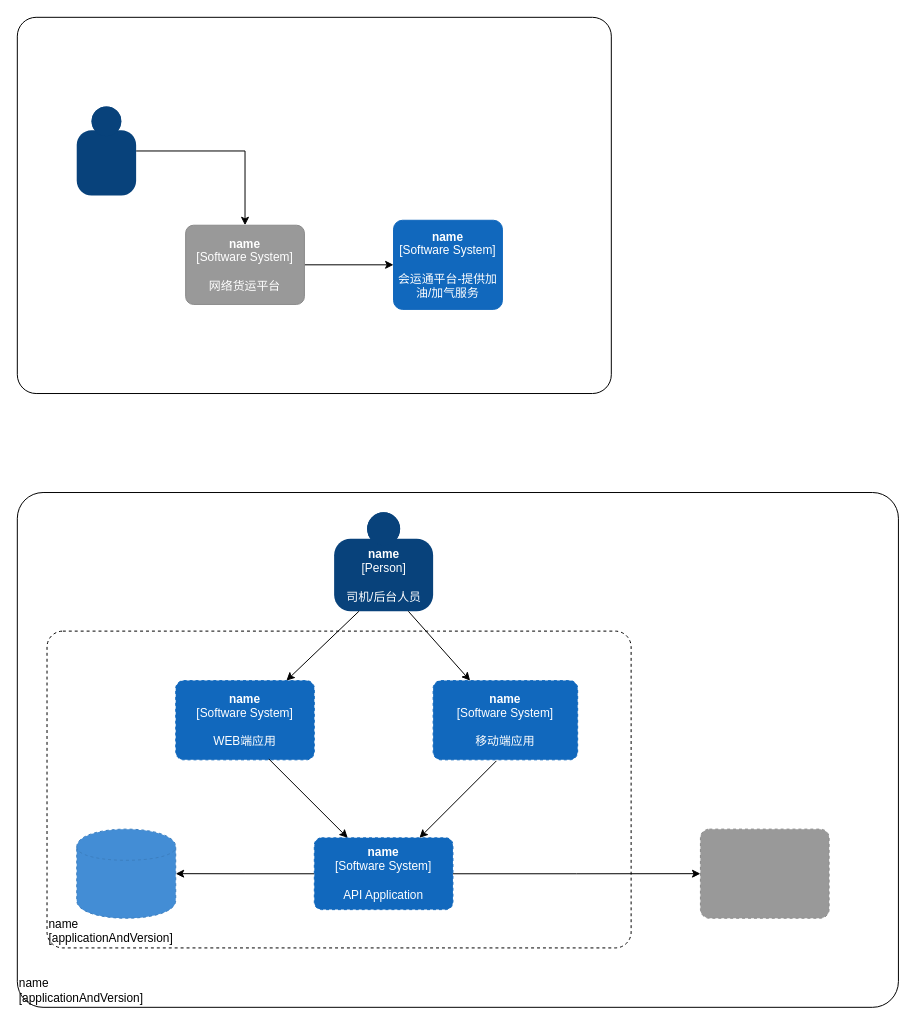
Some shapes in this 916 by 1025 pixel diagram are drawn without their labels. Each missing label, with the box of its shape:
Database [Container: Technology] Description: (76, 828, 176, 918)
name [Person] 司机: (76, 106, 136, 195)
name [Software System] 惠运通三方服务对接: (699, 828, 829, 918)
会运通加油模型 [operationSystem] scalingFactor: (16, 16, 611, 394)
